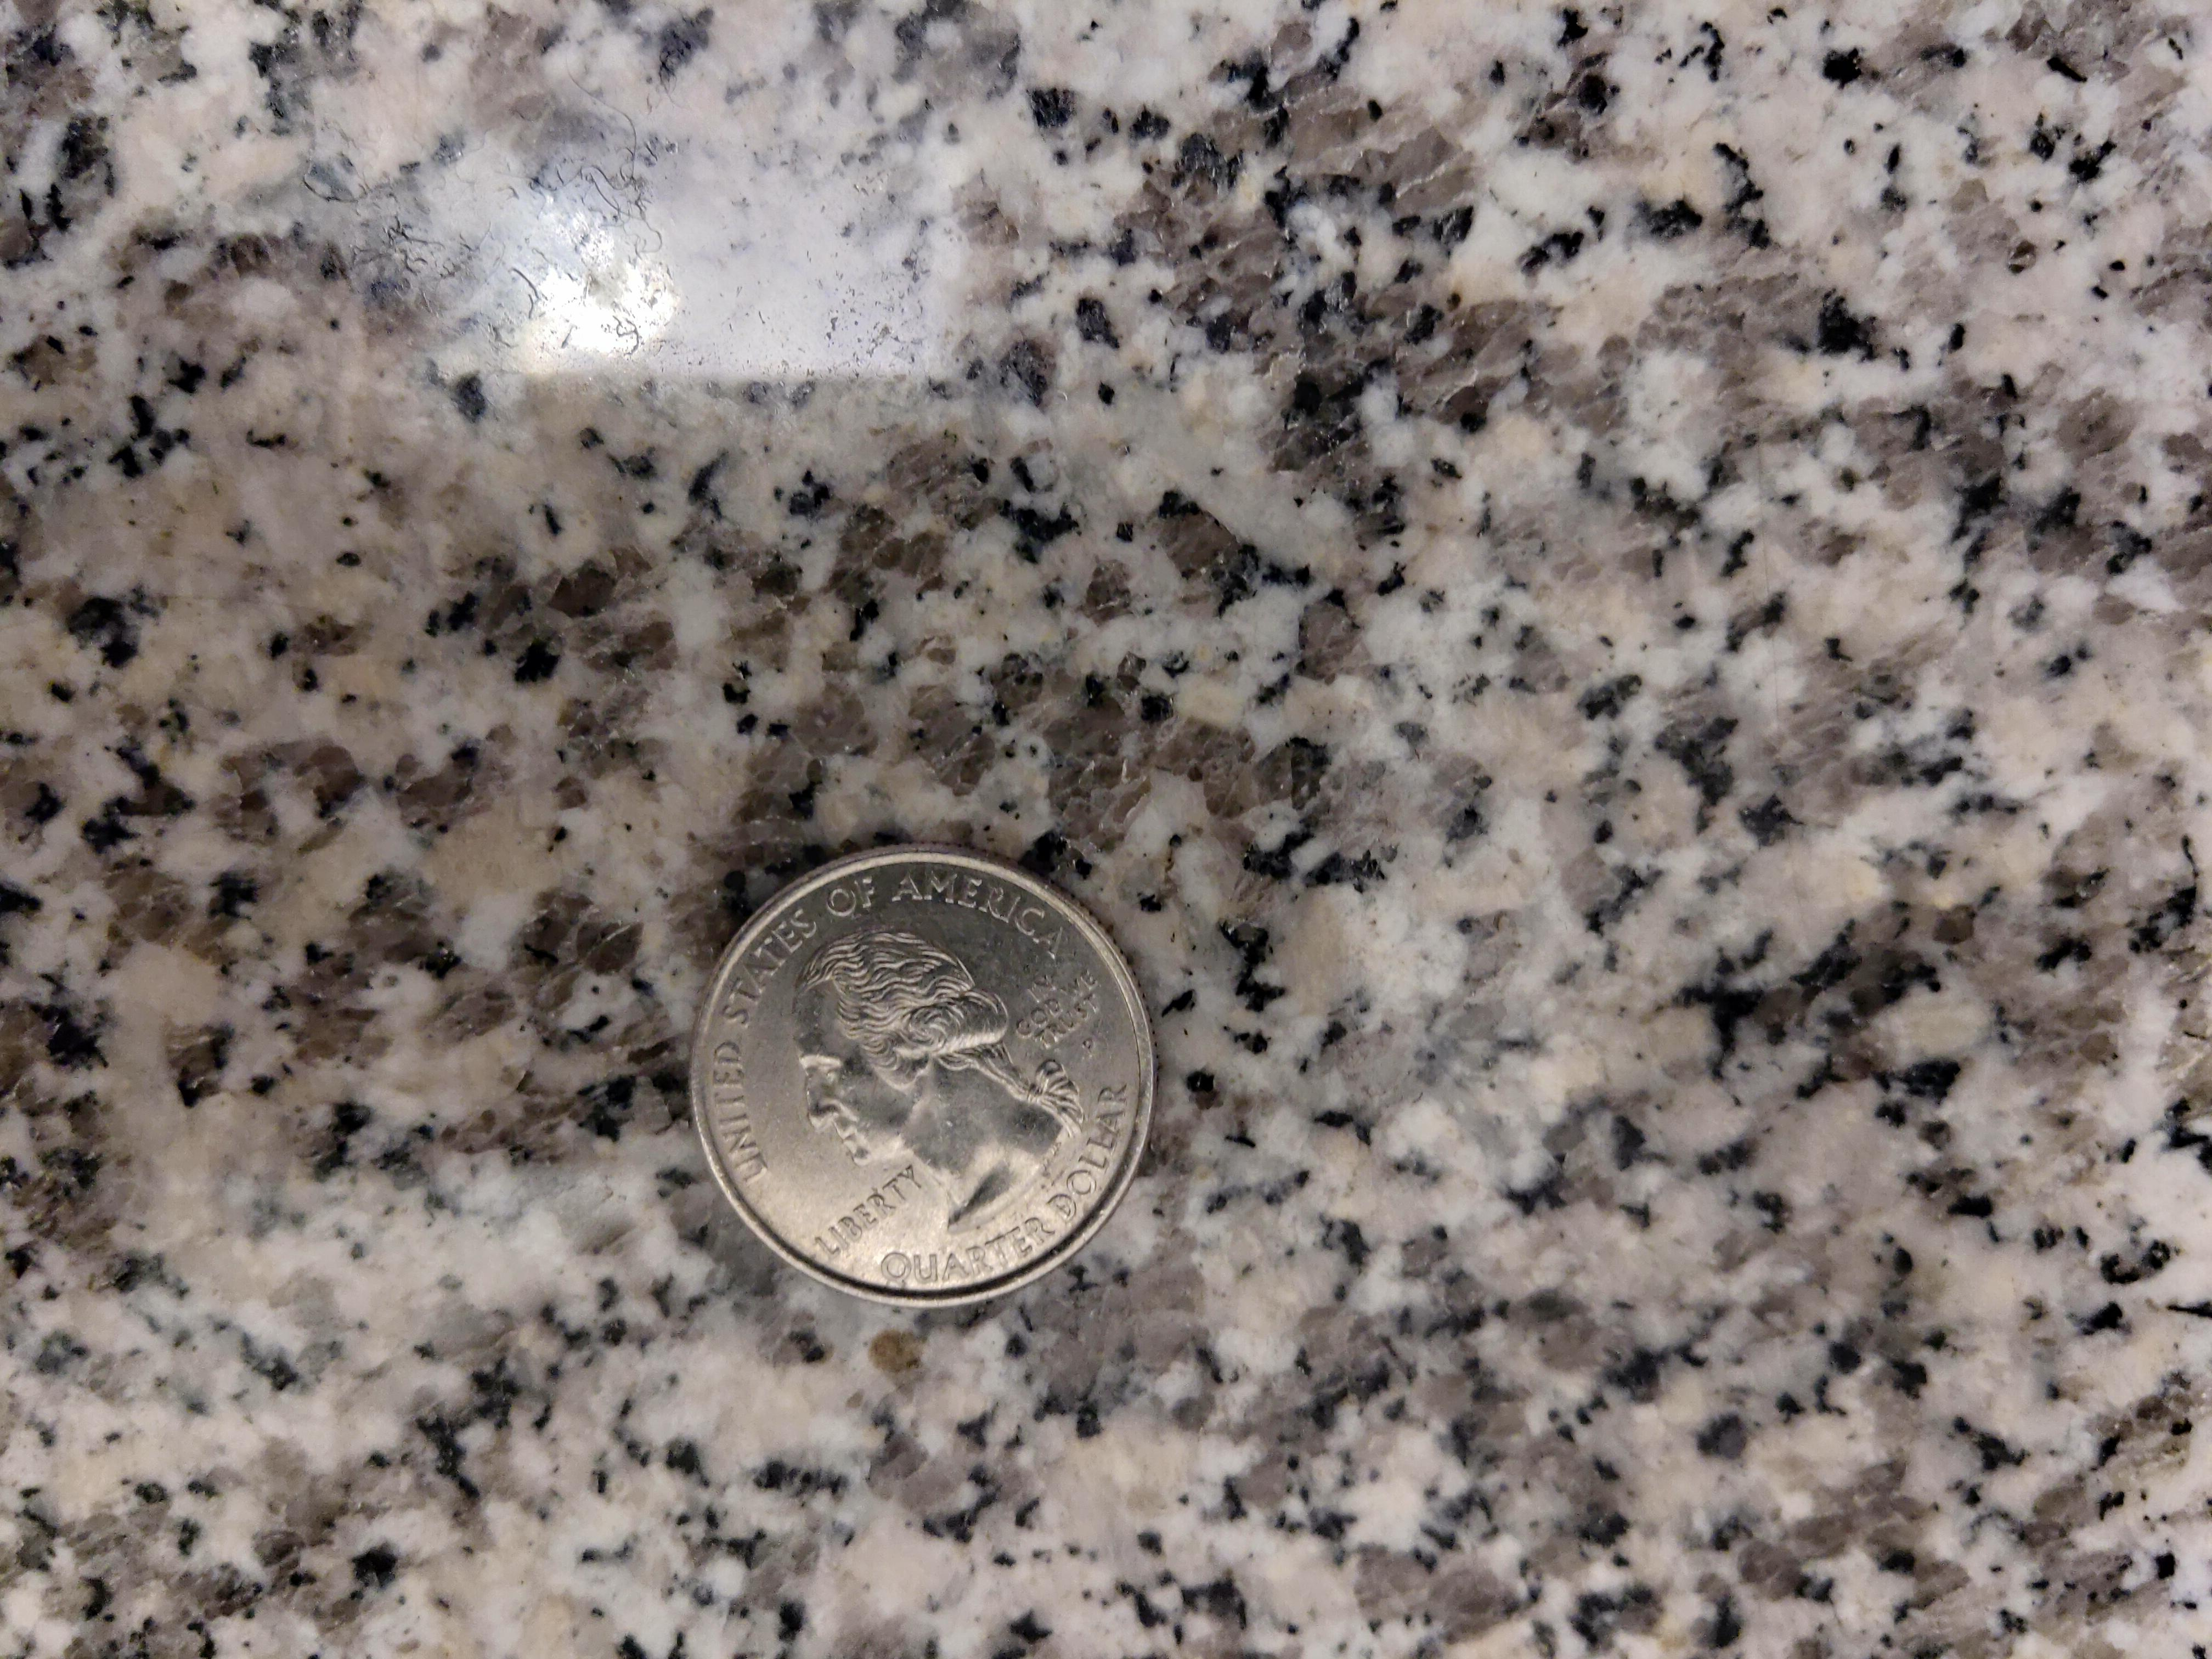Quarter: (686, 838, 1158, 1314)
